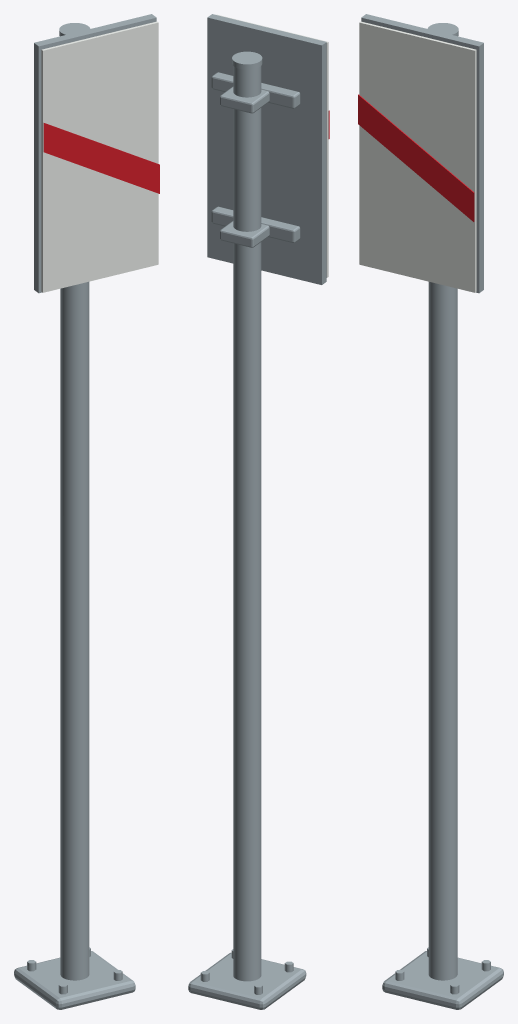
Rendered from DS_Sign_RailwayDist1_L.glb.
The picture shows the model from 3 angles, left to right: view 1: azimuth 30°, elevation 25°; view 2: azimuth 150°, elevation 25°; view 3: azimuth 330°, elevation 25°; orthographic projection. The views are drawn at different scales.
Parts seen in each view (by area): view 1: Face_Field.007, Post.009, BasePlate.009, Stripe_0.005, Plate_Back.012; view 2: Post.009, Plate_Back.012, BasePlate.009, RearRail.020, RearRail.019, Face_Field.007, PostClamp.020, PostClamp.019, PostCap.009; view 3: Face_Field.007, Post.009, Stripe_0.005, BasePlate.009, Plate_Back.012.
Boxes of the visible parts, left/top/right/bottom form: Face_Field.007: left=41, top=21, right=158, bottom=292; Post.009: left=60, top=281, right=89, bottom=980; BasePlate.009: left=14, top=951, right=135, bottom=1009; Stripe_0.005: left=43, top=123, right=159, bottom=193; Plate_Back.012: left=34, top=14, right=156, bottom=293; Post.009: left=233, top=66, right=261, bottom=981; Plate_Back.012: left=207, top=14, right=326, bottom=284; BasePlate.009: left=188, top=952, right=306, bottom=1009; RearRail.020: left=211, top=72, right=300, bottom=108; RearRail.019: left=211, top=206, right=300, bottom=242; Face_Field.007: left=216, top=14, right=328, bottom=277; PostClamp.020: left=220, top=86, right=269, bottom=113; PostClamp.019: left=220, top=221, right=269, bottom=247; PostCap.009: left=232, top=51, right=262, bottom=69; Face_Field.007: left=359, top=21, right=476, bottom=292; Post.009: left=428, top=281, right=457, bottom=980; Stripe_0.005: left=358, top=94, right=474, bottom=221; BasePlate.009: left=382, top=951, right=503, bottom=1009; Plate_Back.012: left=361, top=14, right=483, bottom=293.
Bounding box in the file's own units: 0.357 × 2.81 × 0.262.
